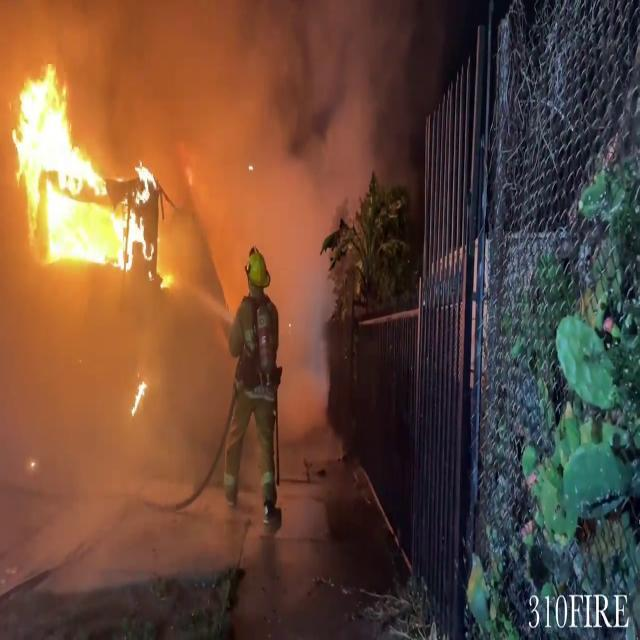Fire: (6, 63, 150, 276)
Smoke: (98, 1, 396, 417)
